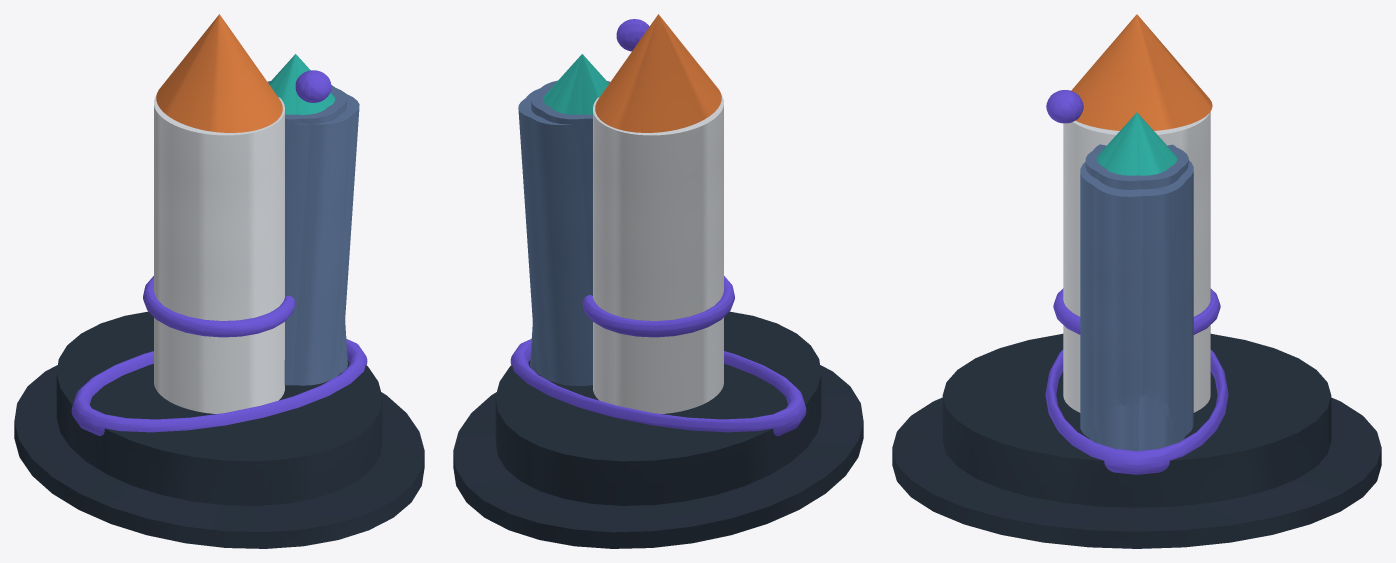
File: 0541_岩石矿物图鉴_橄榄陨铁.glb
3 renders of one model, left to right at view 1: azimuth 30°, elevation 25°; view 2: azimuth 150°, elevation 25°; view 3: azimuth 270°, elevation 25°, orthographic. The views are drawn at different scales.
Parts seen in each view (by area): view 1: card_0541; view 2: card_0541; view 3: card_0541.
Part boxes in pixels (bbox=[...]): card_0541: bbox=[14, 14, 424, 548]; card_0541: bbox=[453, 14, 863, 548]; card_0541: bbox=[892, 14, 1381, 548].
Size of the model in its own units: 0.7975 by 1 by 0.9834.
